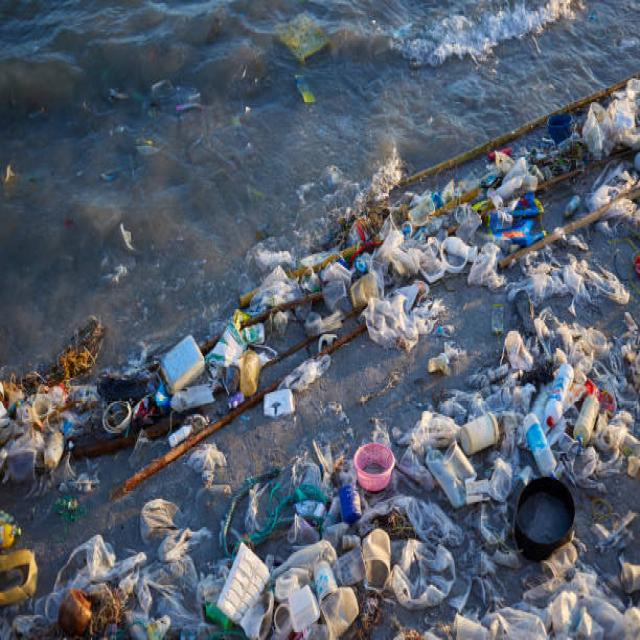garbage: (243, 476, 634, 634), (268, 187, 480, 331), (4, 353, 195, 470), (474, 346, 630, 457), (56, 528, 227, 624)
